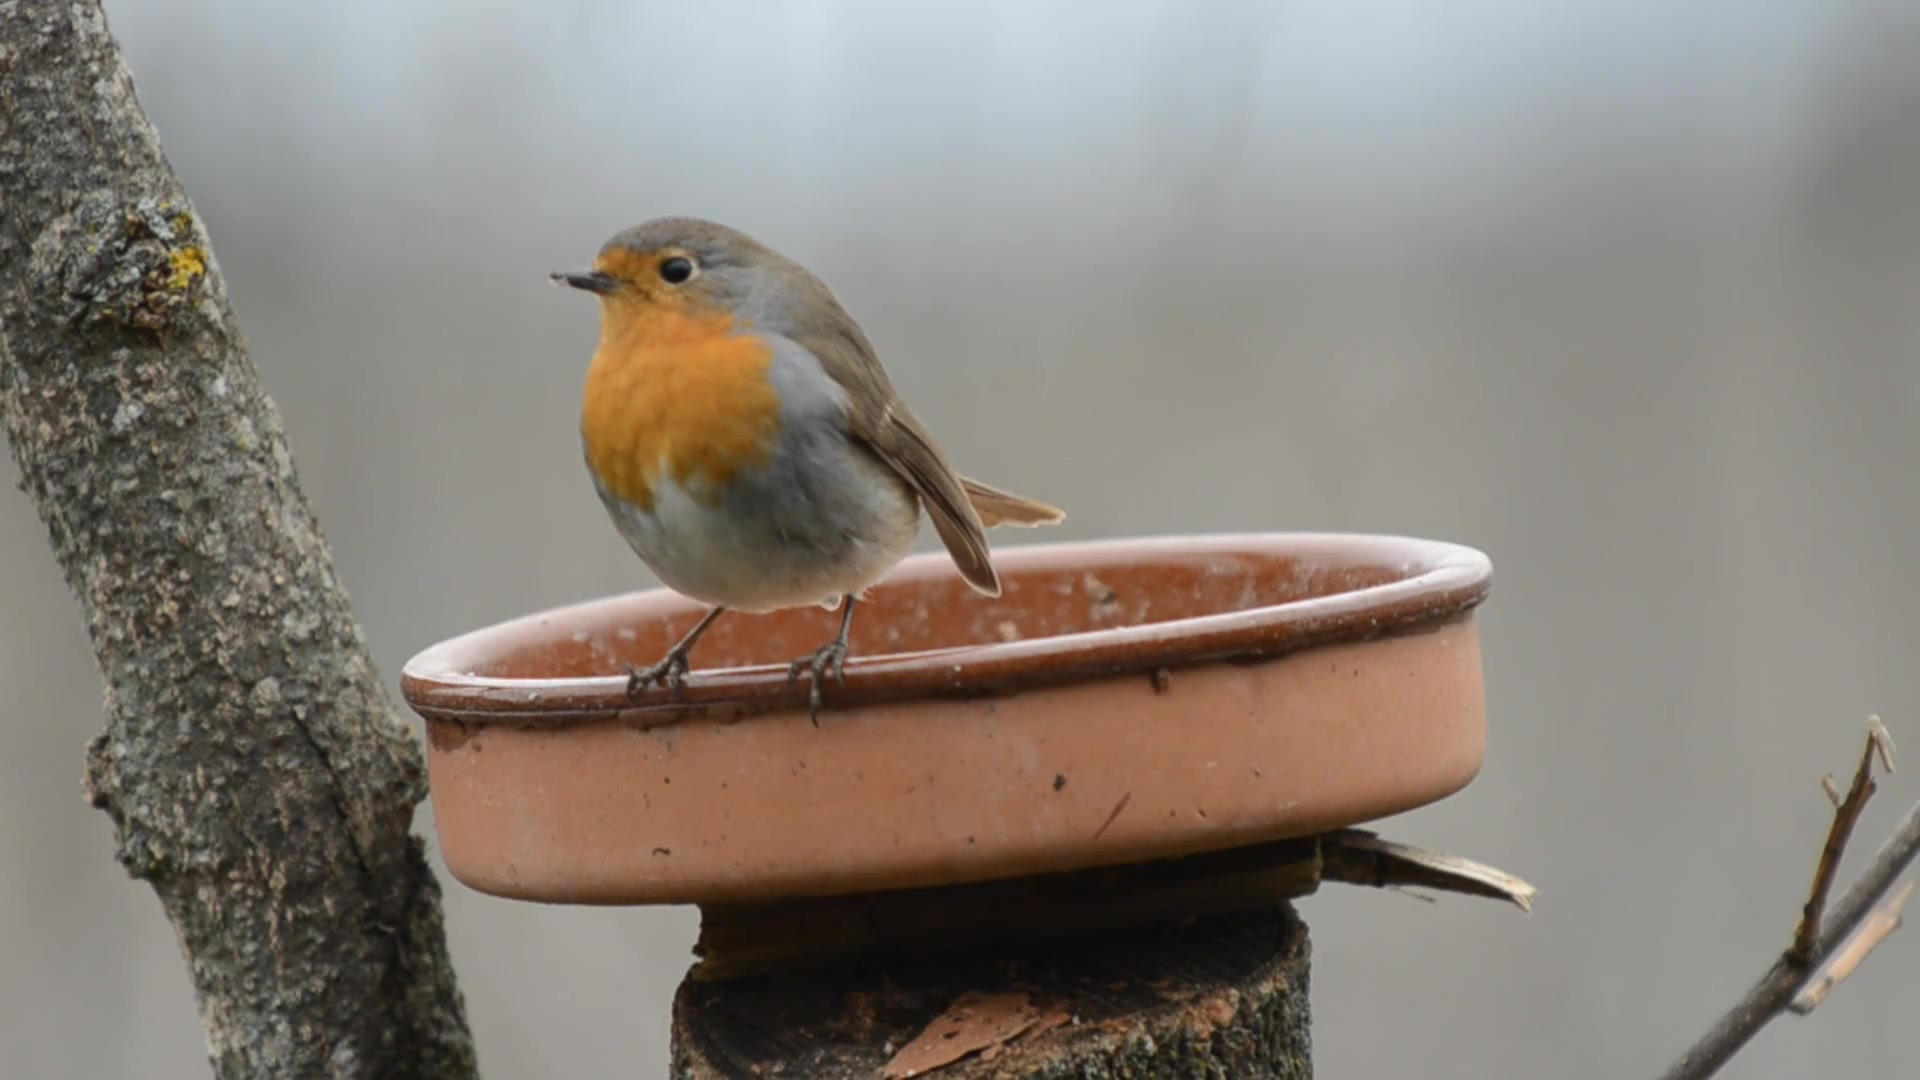bird: (549, 215, 1065, 728)
